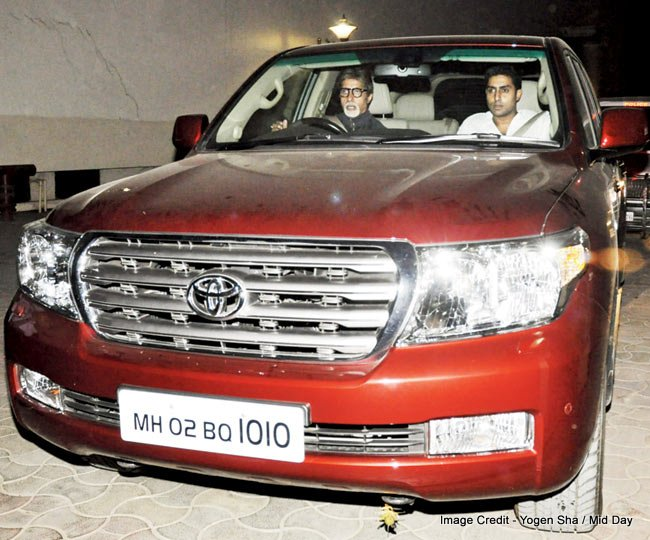number_plate: (115, 379, 314, 466)
